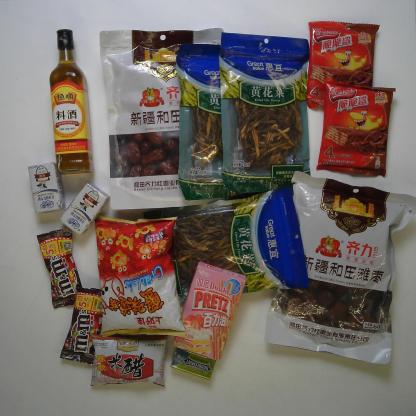Chocolate: (37, 228, 87, 310), (58, 286, 105, 367)
Dessert: (314, 77, 395, 180), (169, 260, 245, 361), (304, 18, 380, 112)
Dried Food: (263, 170, 414, 368), (97, 27, 221, 212), (143, 192, 312, 308), (217, 31, 313, 195), (175, 40, 269, 200)
Gum: (168, 350, 215, 380)
Milk: (61, 182, 111, 236), (27, 160, 65, 214)
Puffed Food: (91, 213, 188, 338)
Seasoner: (50, 29, 94, 177), (87, 332, 168, 391)
